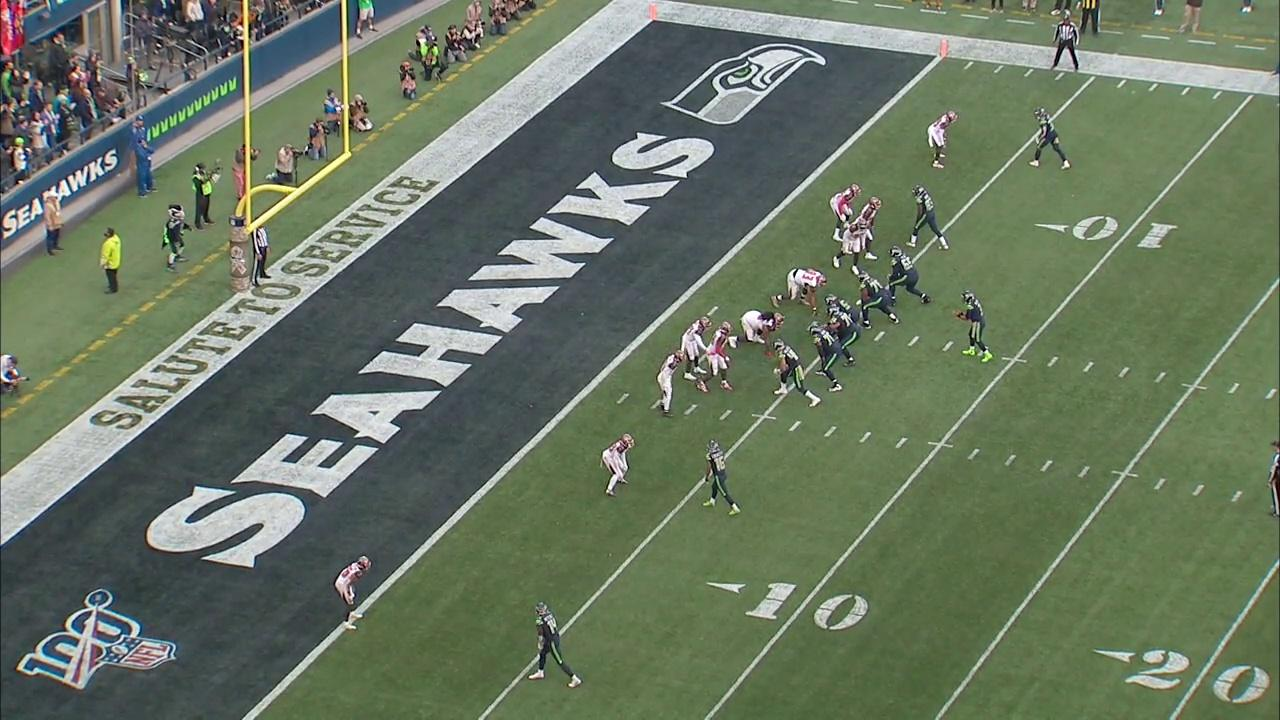defense: (726, 308, 788, 360), (332, 553, 372, 633), (769, 265, 830, 317), (695, 317, 734, 395), (596, 428, 638, 500), (651, 347, 688, 421), (832, 216, 873, 277), (679, 313, 713, 383), (925, 107, 960, 171), (851, 194, 884, 261), (829, 181, 863, 244)
oline: (885, 245, 934, 307), (856, 269, 902, 331), (808, 324, 845, 394), (823, 306, 862, 369), (824, 290, 861, 324)
qb: (953, 287, 995, 364)
ref: (1050, 13, 1085, 75), (1256, 435, 1280, 521), (250, 219, 277, 289)
skill: (525, 599, 584, 692), (768, 338, 822, 409), (699, 438, 743, 517), (904, 183, 953, 252), (1028, 105, 1072, 173)
